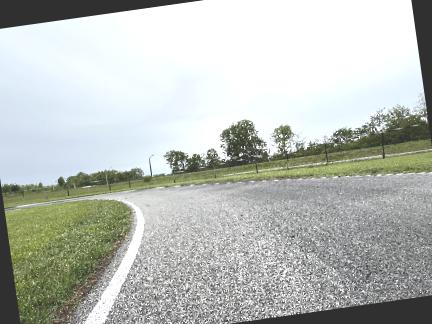Grass: (5, 200, 131, 323), (3, 164, 256, 207), (169, 152, 431, 186)
Lane: (87, 173, 431, 323)
